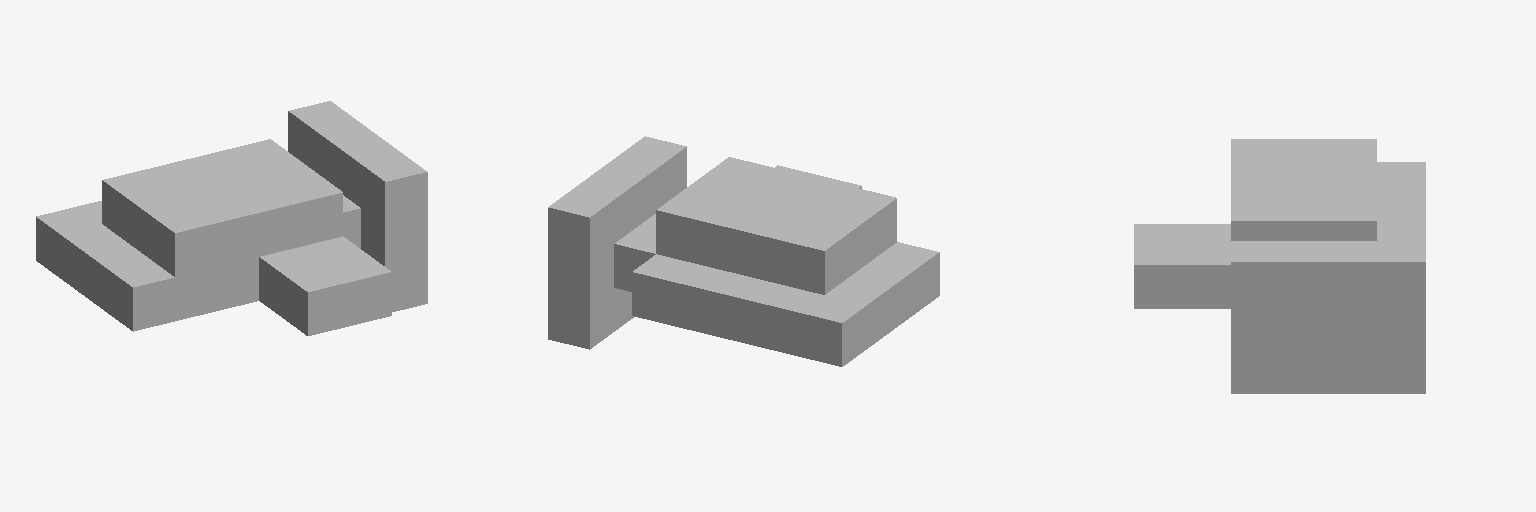
Rendered from hand.obj.
The picture shows the model from 3 angles: view 1: azimuth 30°, elevation 25°; view 2: azimuth 150°, elevation 25°; view 3: azimuth 270°, elevation 25°; orthographic projection.
Parts seen in each view (by area): view 1: object 1; view 2: object 1; view 3: object 1.
Part boxes in pixels (x1,y1,x2,y2): object 1: (36,101,427,335); object 1: (548,136,939,366); object 1: (1134,139,1425,393).
Size of the model in its own units: 0.7 by 0.3 by 0.6.